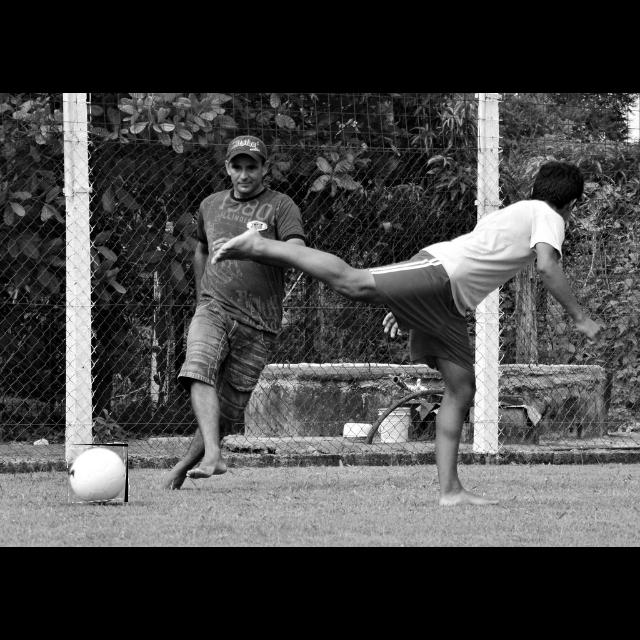Football: (68, 444, 128, 502)
